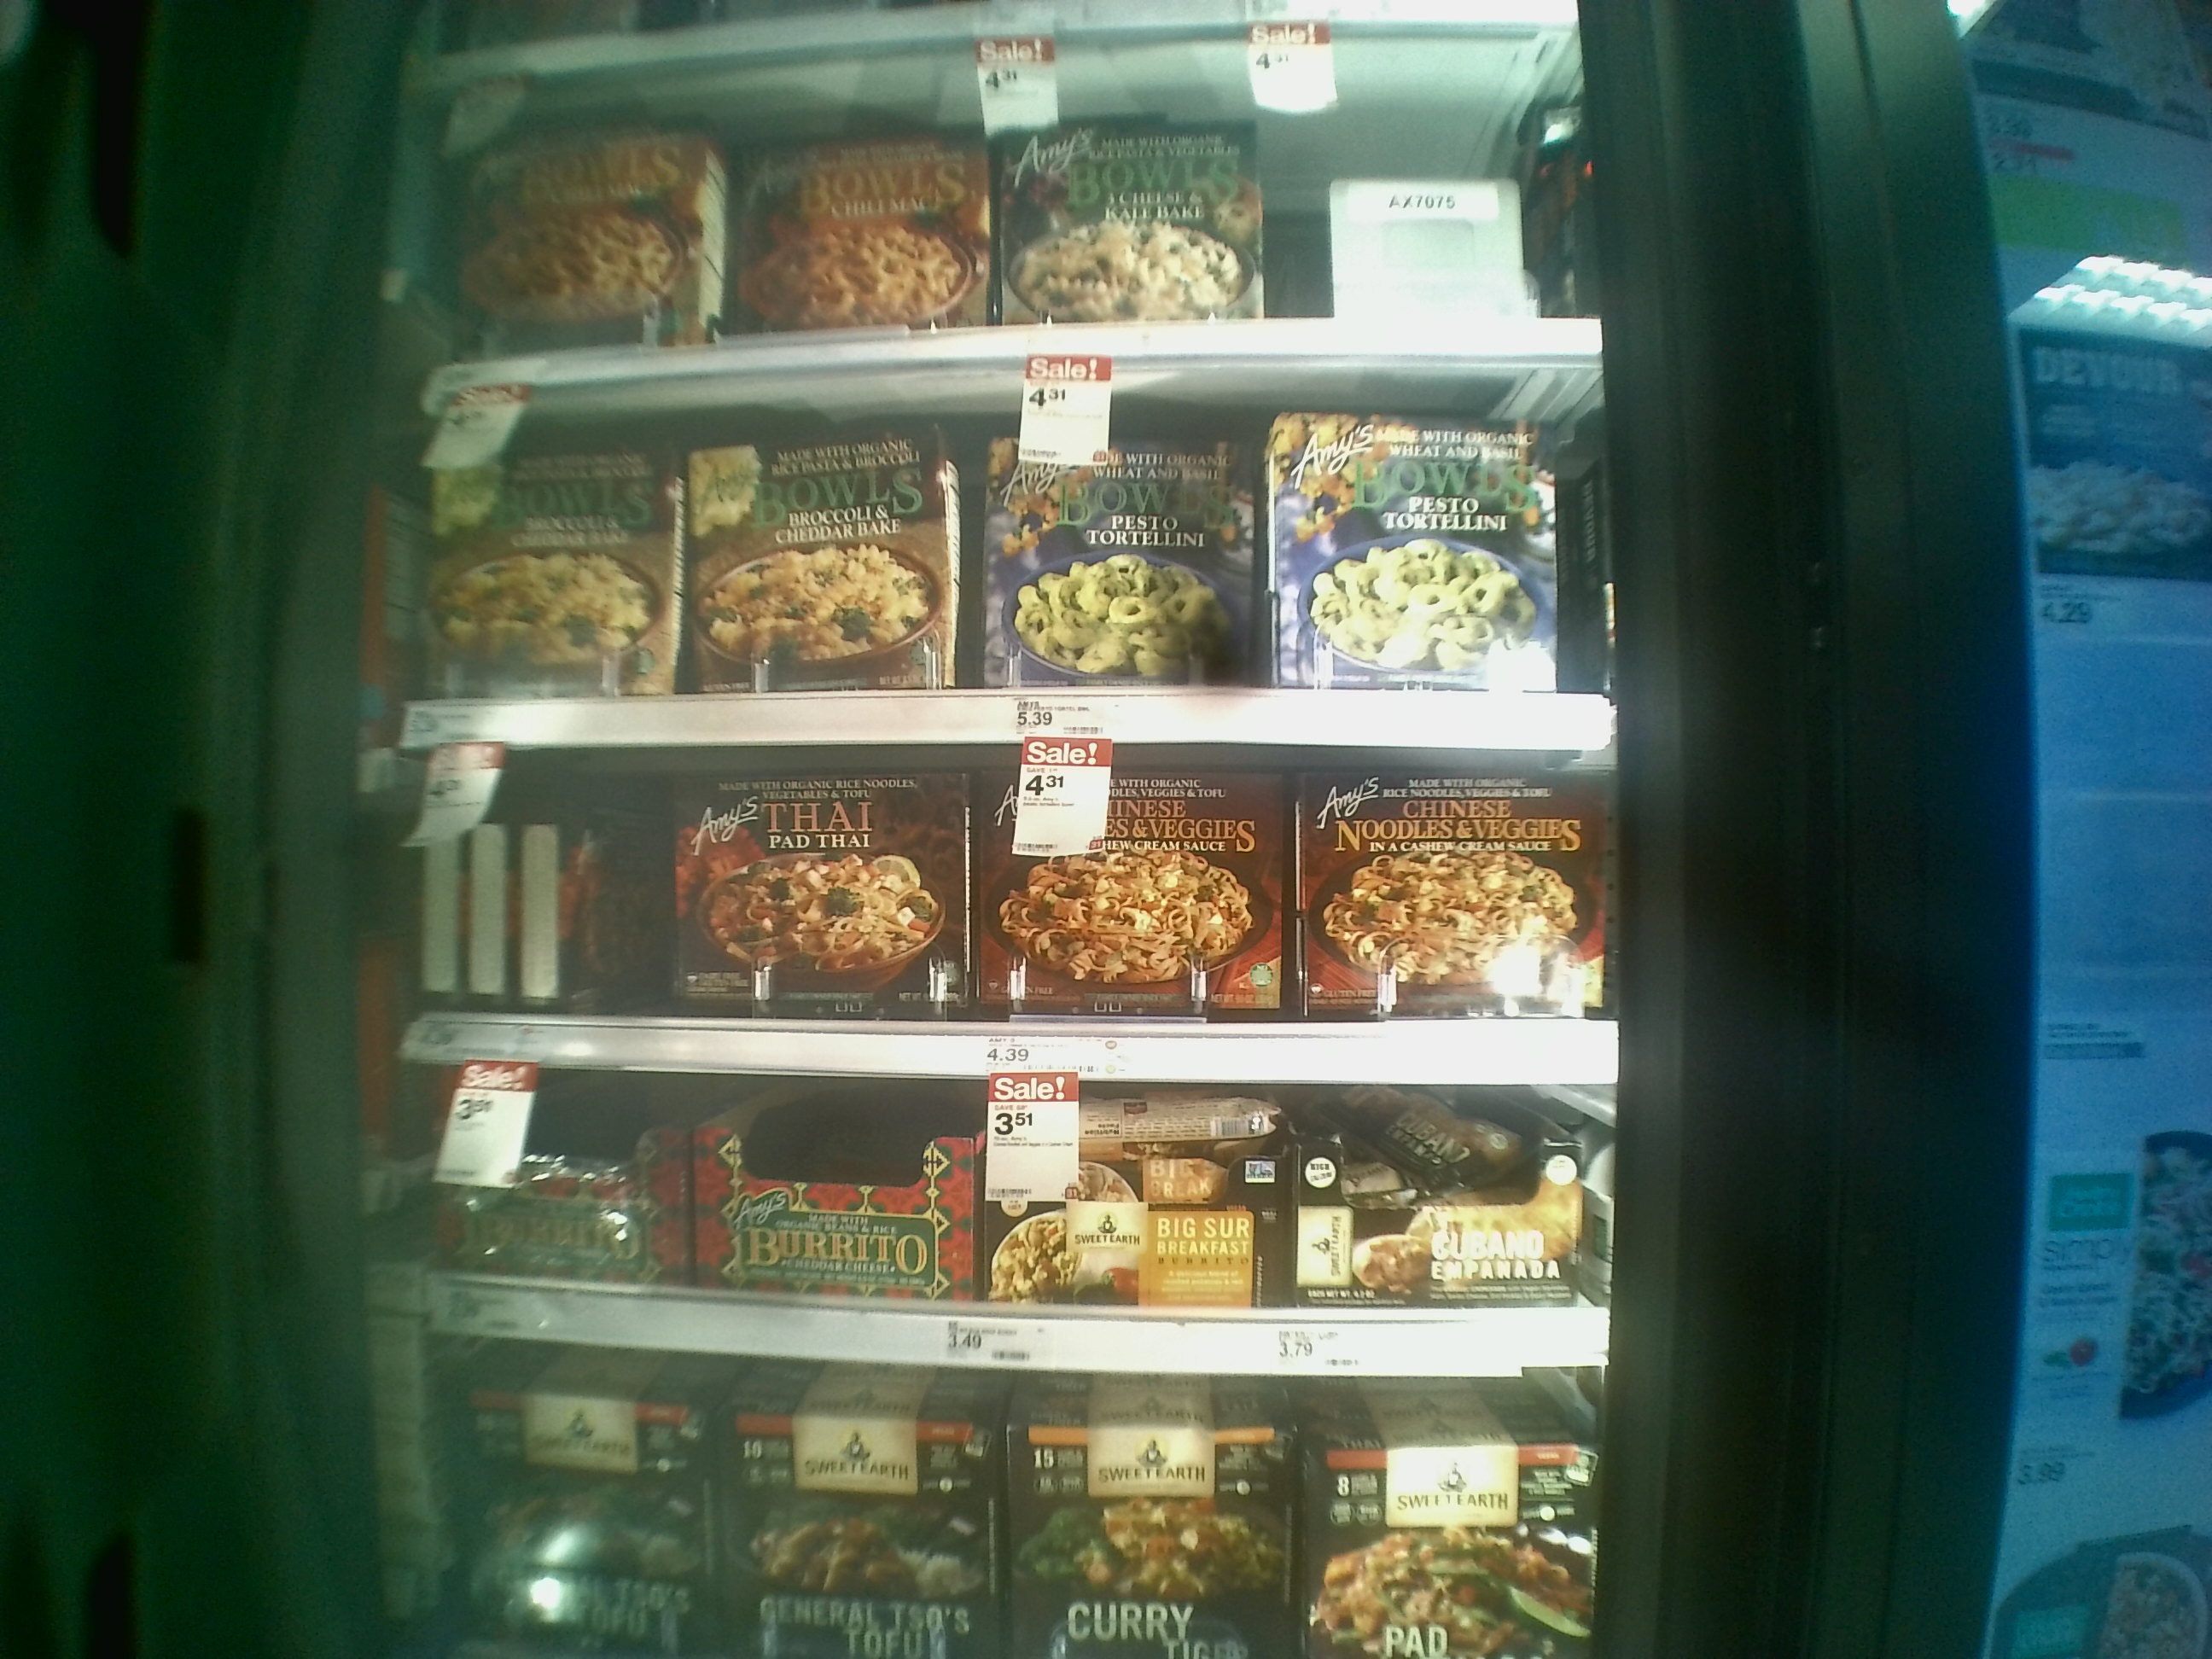frozen-food-shelf: (401, 380, 1623, 763), (394, 767, 1623, 1086), (394, 1086, 1622, 1377), (420, 85, 1611, 376)
